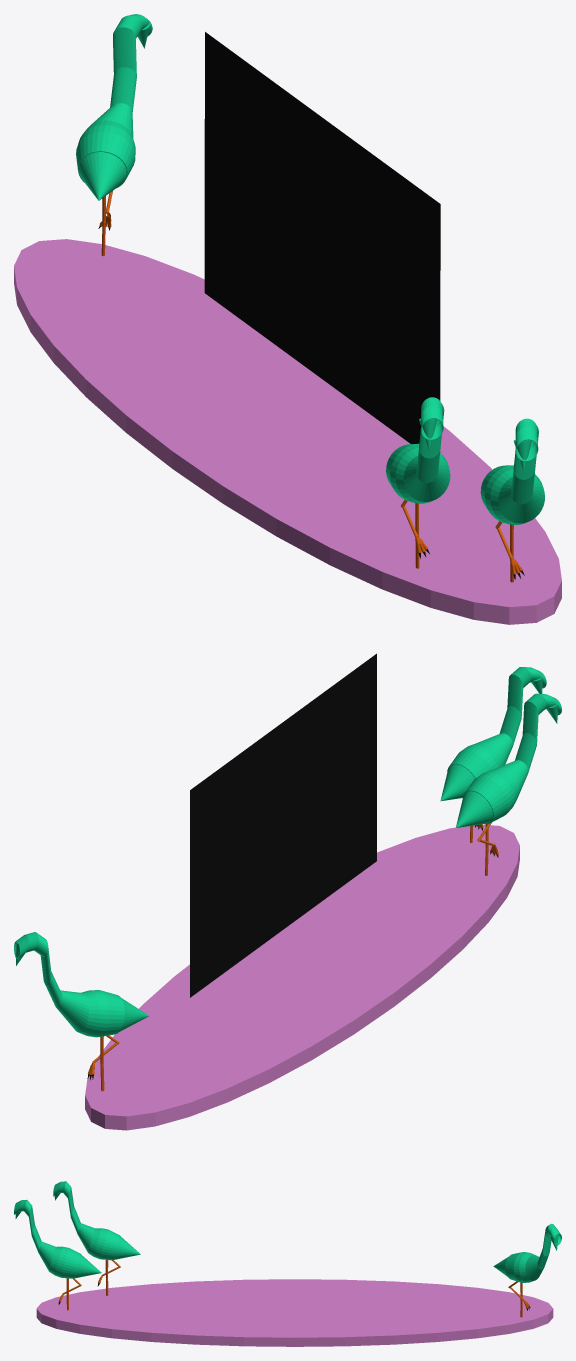
The model's file is float11.fbx.
3 renders of one model, top to bottom at view 1: azimuth 30°, elevation 25°; view 2: azimuth 150°, elevation 25°; view 3: azimuth 270°, elevation 25°, orthographic. The views are drawn at different scales.
Visible parts, largest first — view 1: Plane; view 2: Plane; view 3: Plane.
Part boxes in pixels (bbox=[...]): Plane: bbox=[14, 14, 561, 624]; Plane: bbox=[14, 653, 561, 1130]; Plane: bbox=[14, 1181, 561, 1346].
Bounding box in the file's own units: 500 × 662 × 1980.
